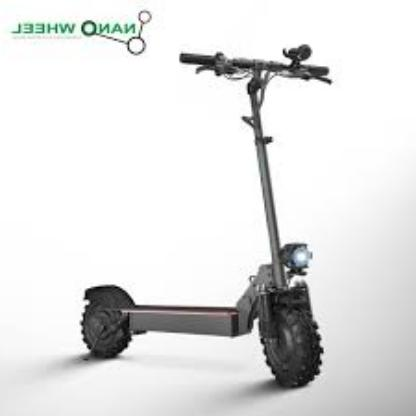bike: (80, 41, 336, 389)
